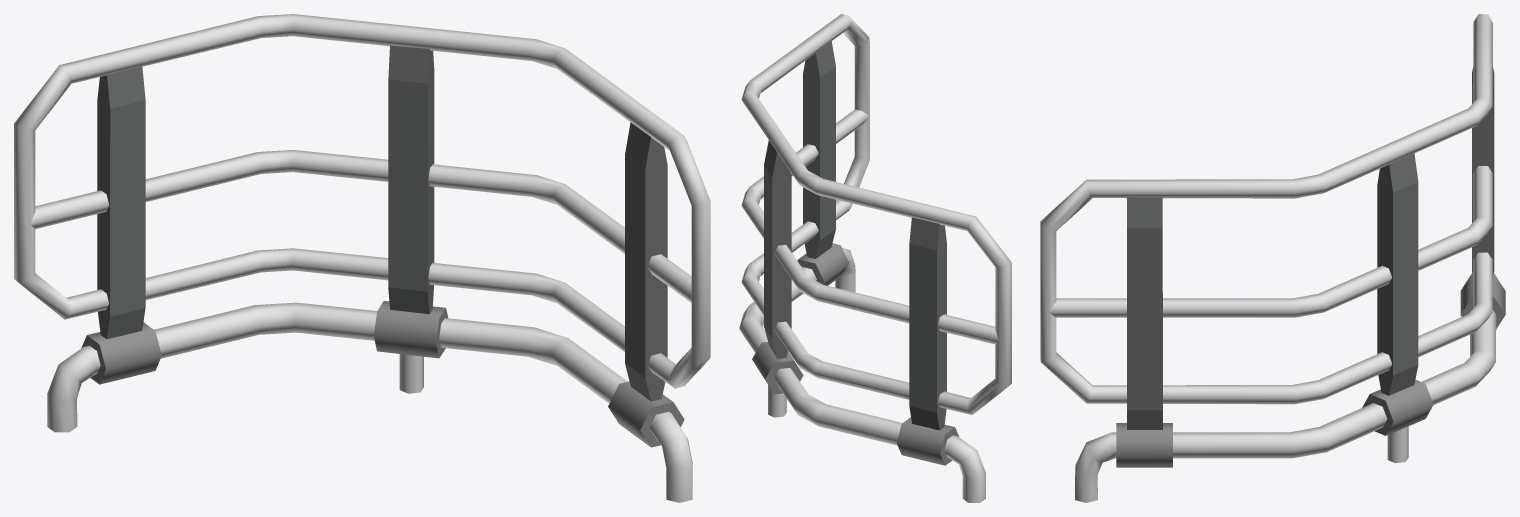
The model's file is Fence_type_B_001.fbx.
The picture shows the model from 3 angles, left to right: view 1: azimuth 30°, elevation 25°; view 2: azimuth 150°, elevation 25°; view 3: azimuth 270°, elevation 25°; orthographic projection. The views are drawn at different scales.
Parts seen in each view (by area): view 1: Fence_type_B_001; view 2: Fence_type_B_001; view 3: Fence_type_B_001.
Part boxes in pixels (<box>): Fence_type_B_001: <box>14,14,710,502</box>; Fence_type_B_001: <box>739,14,1011,502</box>; Fence_type_B_001: <box>1040,14,1505,502</box>.
Bounding box in the file's own units: 190 × 190 × 143.
